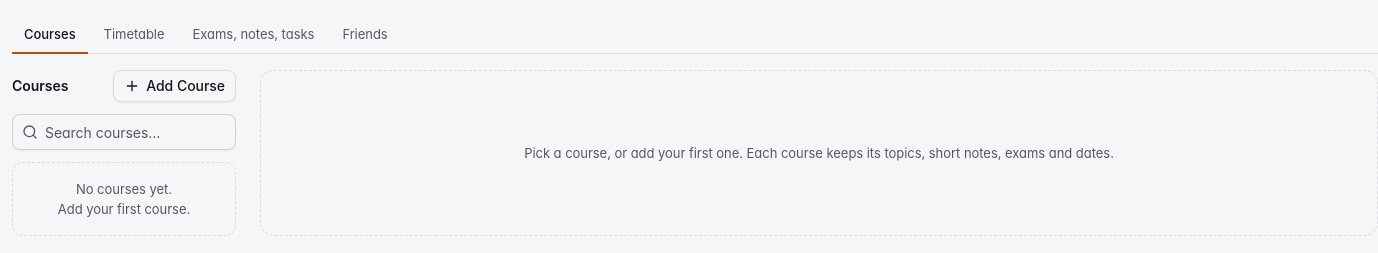
Test case: the Study page › says Friends are planned for later
Click the tab "Friends": [365, 35] box [330,16,400,54]
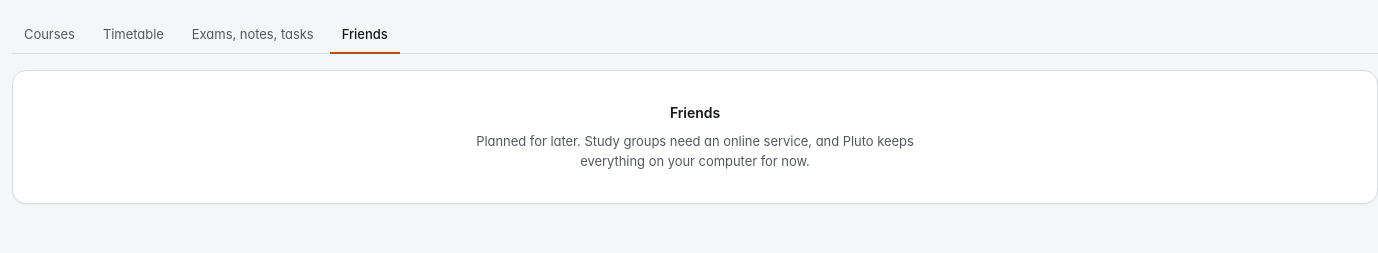
Now the text "Planned for later" is shown, box [476,133,914,169]
